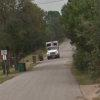Tree: (60, 1, 100, 96)
